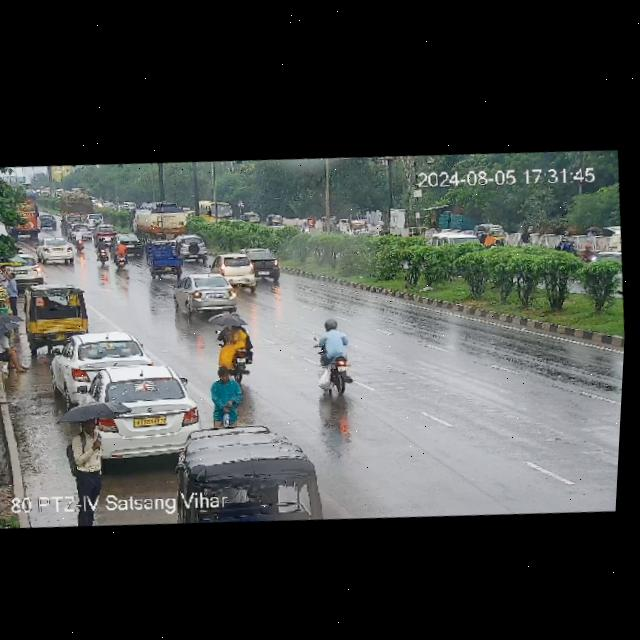bus: (6, 196, 41, 239)
car: (178, 420, 324, 530), (67, 361, 210, 467), (50, 325, 152, 394), (22, 282, 92, 348), (172, 270, 243, 318), (145, 236, 192, 277), (209, 250, 259, 285), (0, 255, 50, 288), (249, 246, 288, 283), (35, 235, 78, 264), (181, 233, 208, 266), (472, 222, 505, 248), (123, 231, 146, 259), (94, 224, 123, 240), (36, 212, 58, 230), (58, 213, 81, 229), (67, 219, 89, 235), (349, 217, 370, 233), (71, 229, 85, 249), (86, 212, 104, 225)
motorcycle: (308, 314, 362, 399), (209, 315, 250, 377), (95, 236, 115, 264), (113, 240, 130, 268), (558, 226, 575, 249), (581, 243, 595, 263)
person: (59, 399, 128, 465), (208, 363, 250, 429), (0, 331, 32, 375), (1, 271, 24, 311)
truck: (127, 194, 198, 244), (56, 190, 99, 216)
